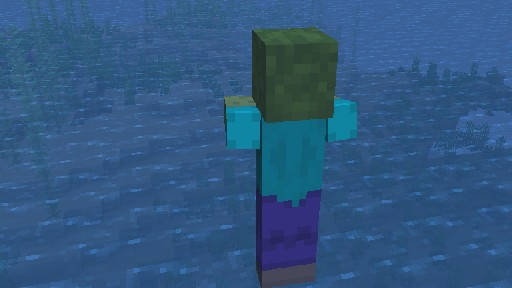zombie: (223, 26, 357, 288)
